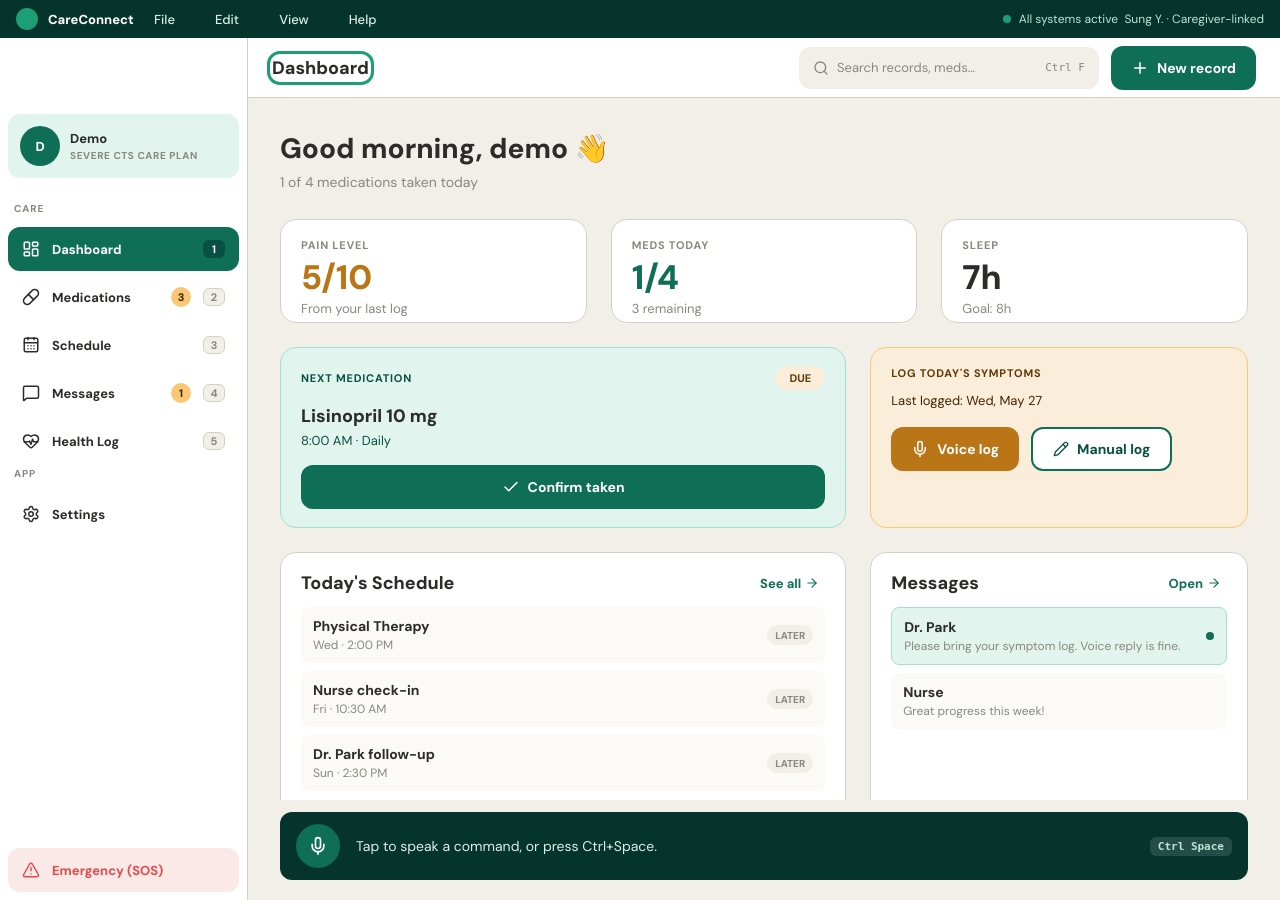
it: GlobalSearchOverlay › finds matches across categories and announces the count
Press f in the heading "Dashboard", box x1=272 y1=56 x2=369 y2=80
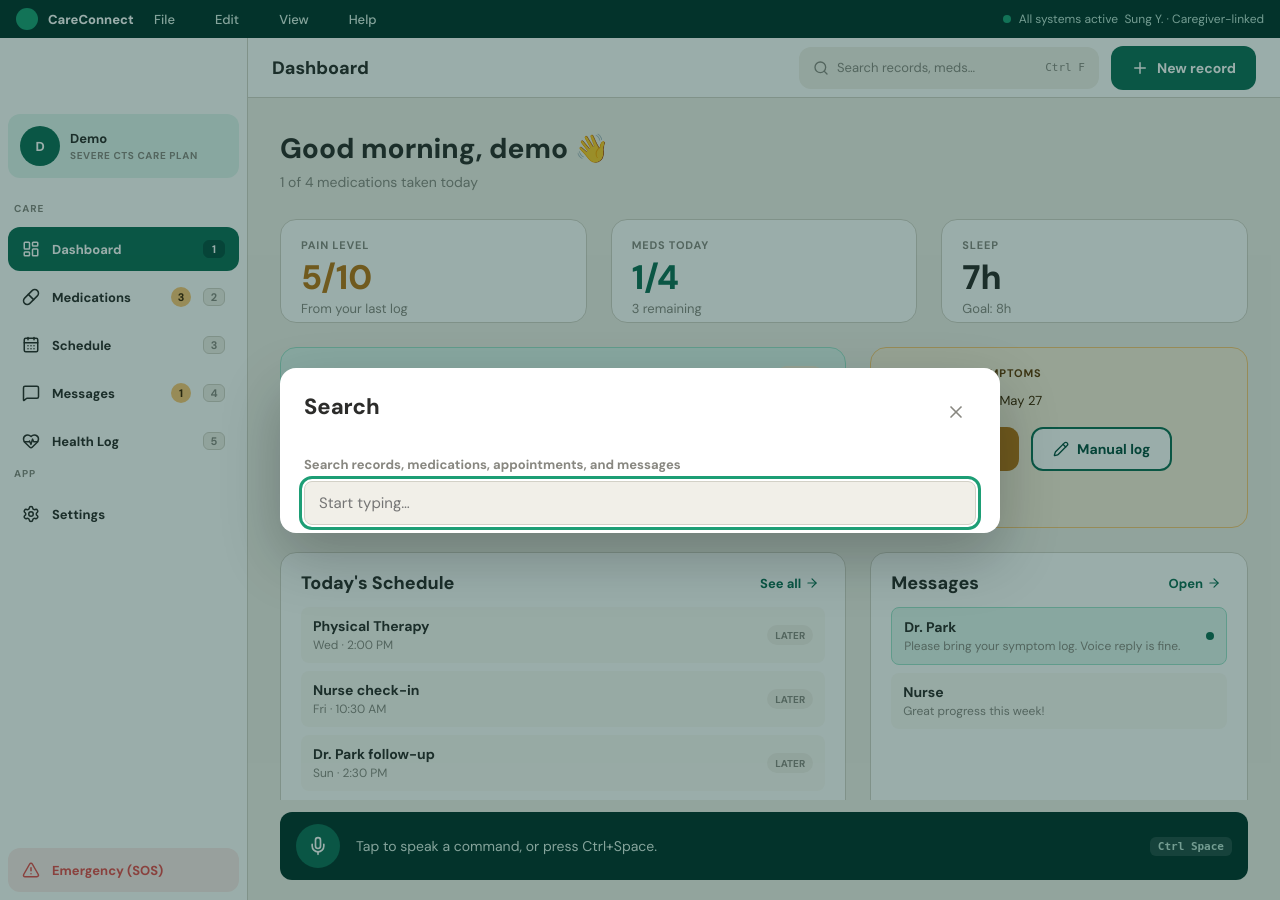
Type "park" into the search field labelled "Search records, medications, appointments, and messages" at (640, 502), box x1=304 y1=480 x2=976 y2=524
Wait 350 ms
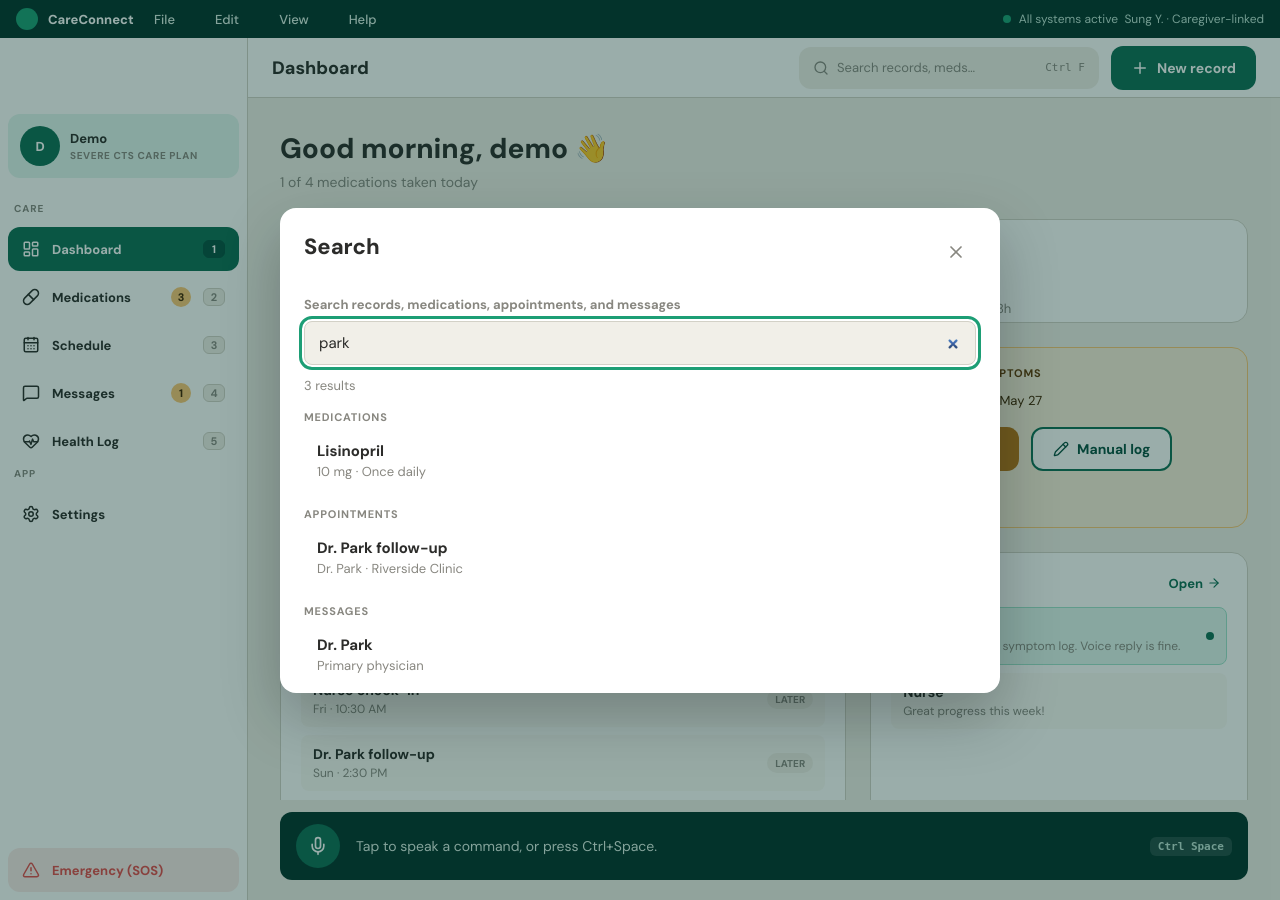
Check: the heading "Medications" is shown, box x1=304 y1=410 x2=388 y2=424
Check: the heading "Appointments" is shown, box x1=304 y1=506 x2=398 y2=520
Check: the text "Dr. Park follow-up" is shown, box x1=317 y1=538 x2=448 y2=558
